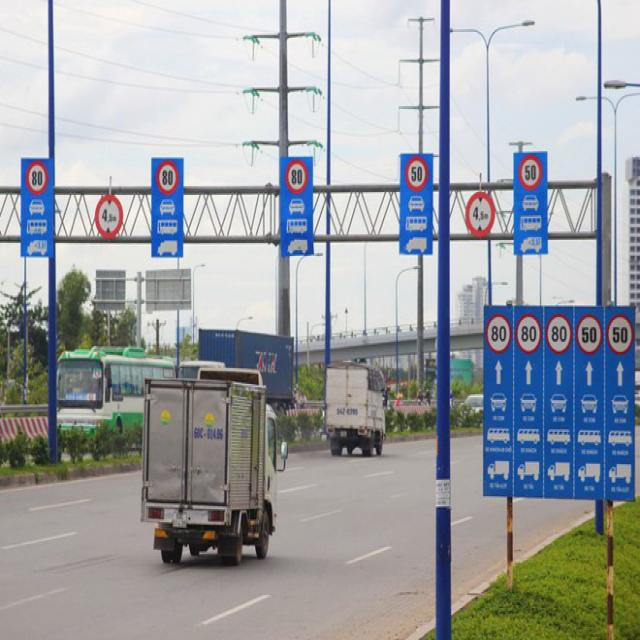Bus: (55, 350, 182, 444)
Dump Truck: (183, 328, 301, 411)
Truck: (146, 380, 274, 575), (324, 355, 388, 462)
